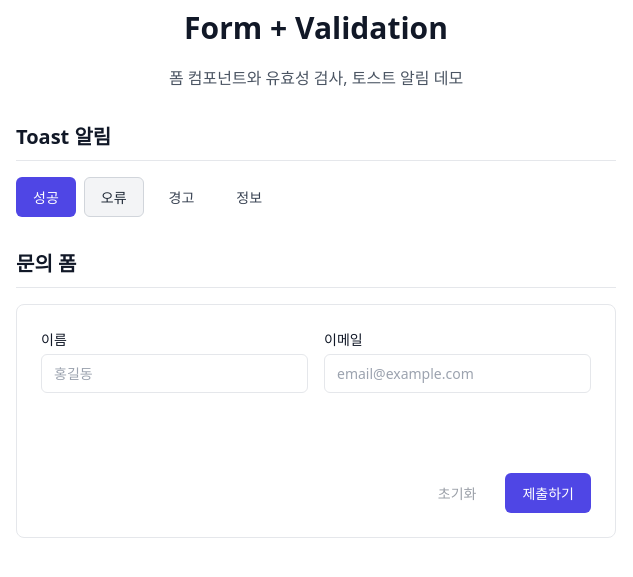
Scenario: FormDemo › 폼 유효성 검사가 동작한다
Note: 이름 필드에 포커스 후 blur로 touched 상태 만들기
Click the field labelled "이름" at point(174, 374), box [41, 354, 308, 393]
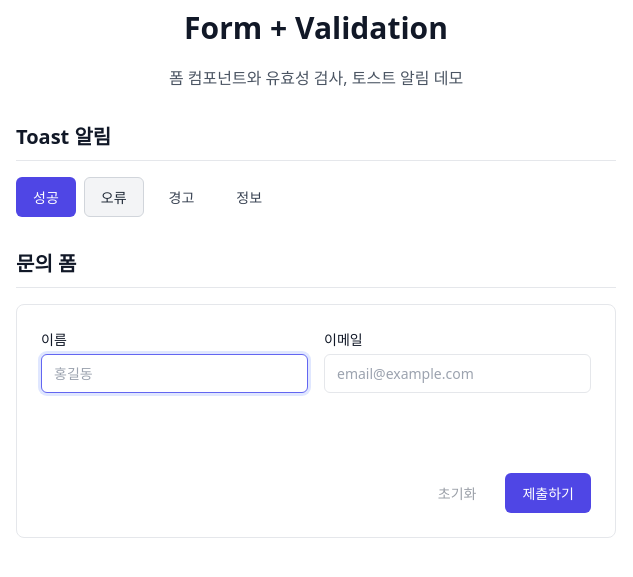
Press Tab
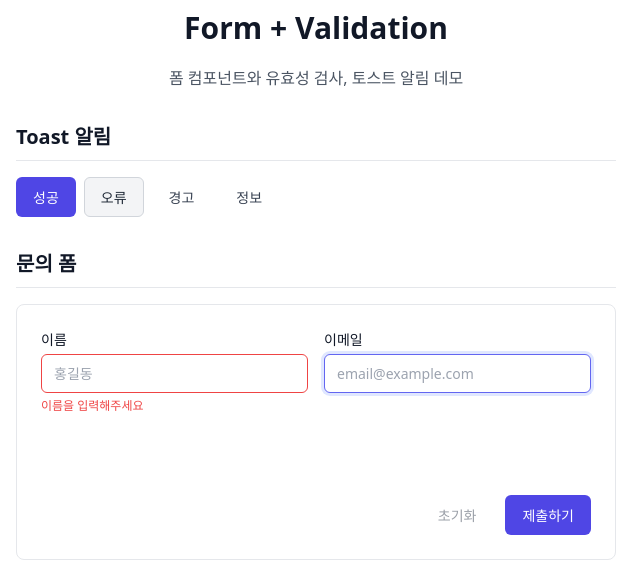
expect the text "이름을 입력해주세요" is shown: met, box [41, 397, 144, 414]
